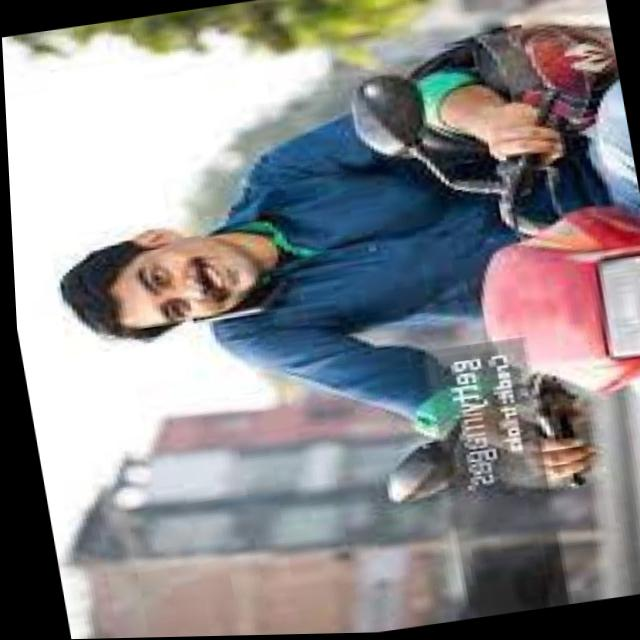USING_MOBILE: (40, 200, 289, 351)
